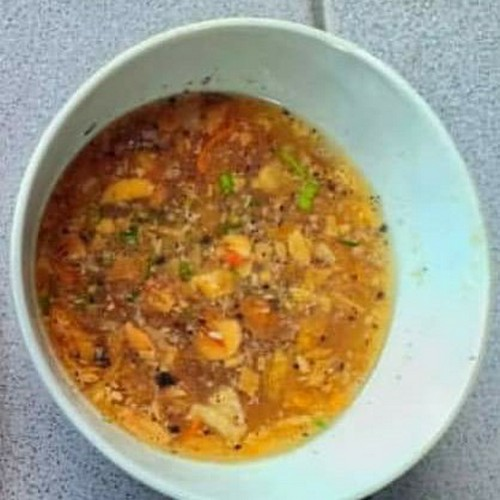komoh: (87, 117, 373, 415)
